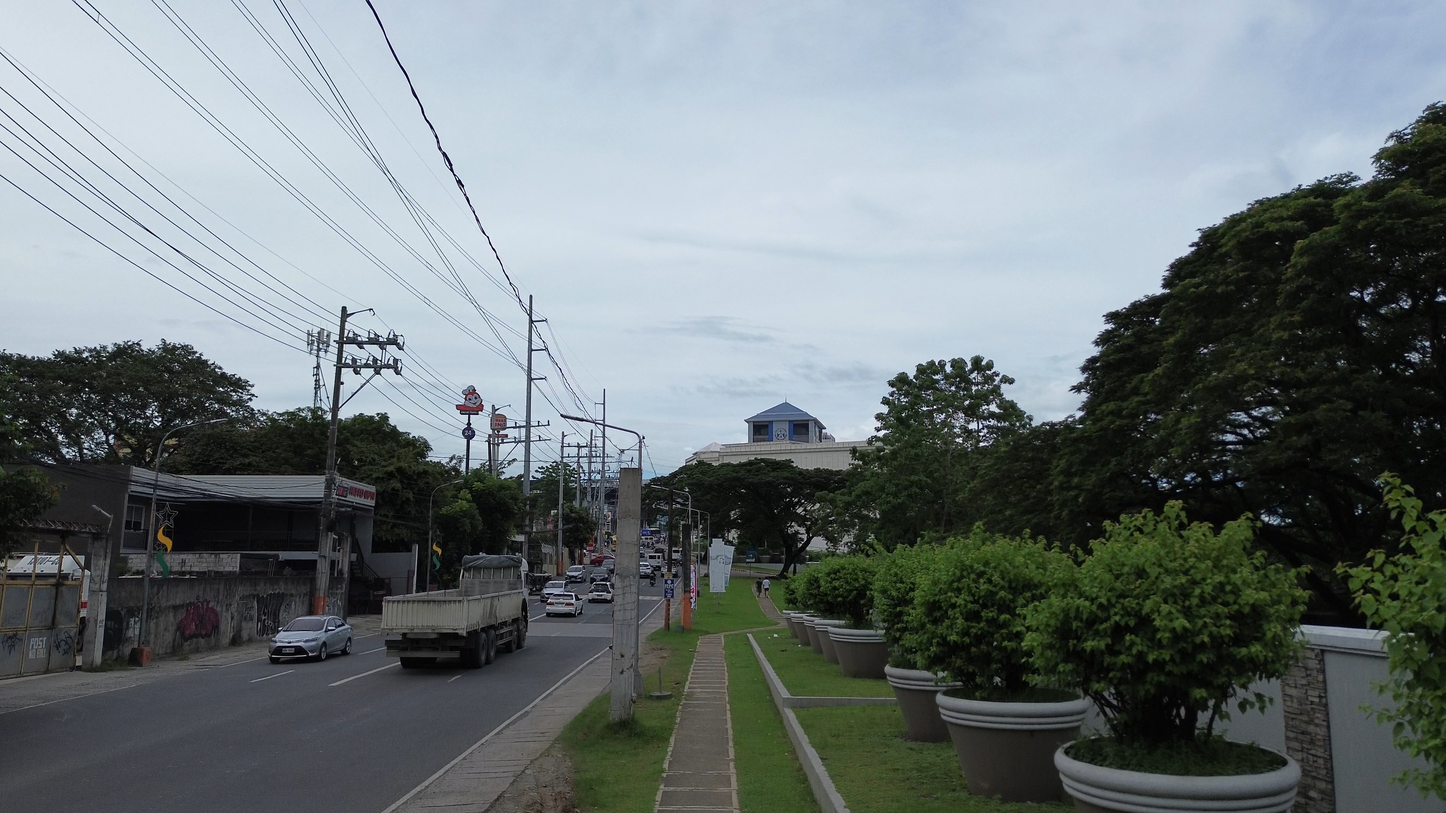car: (269, 616, 352, 663), (545, 592, 584, 616), (540, 580, 567, 603), (639, 561, 653, 577)
truck: (382, 555, 527, 668)
vehicle: (586, 582, 613, 603), (564, 565, 587, 583), (588, 567, 611, 583)
